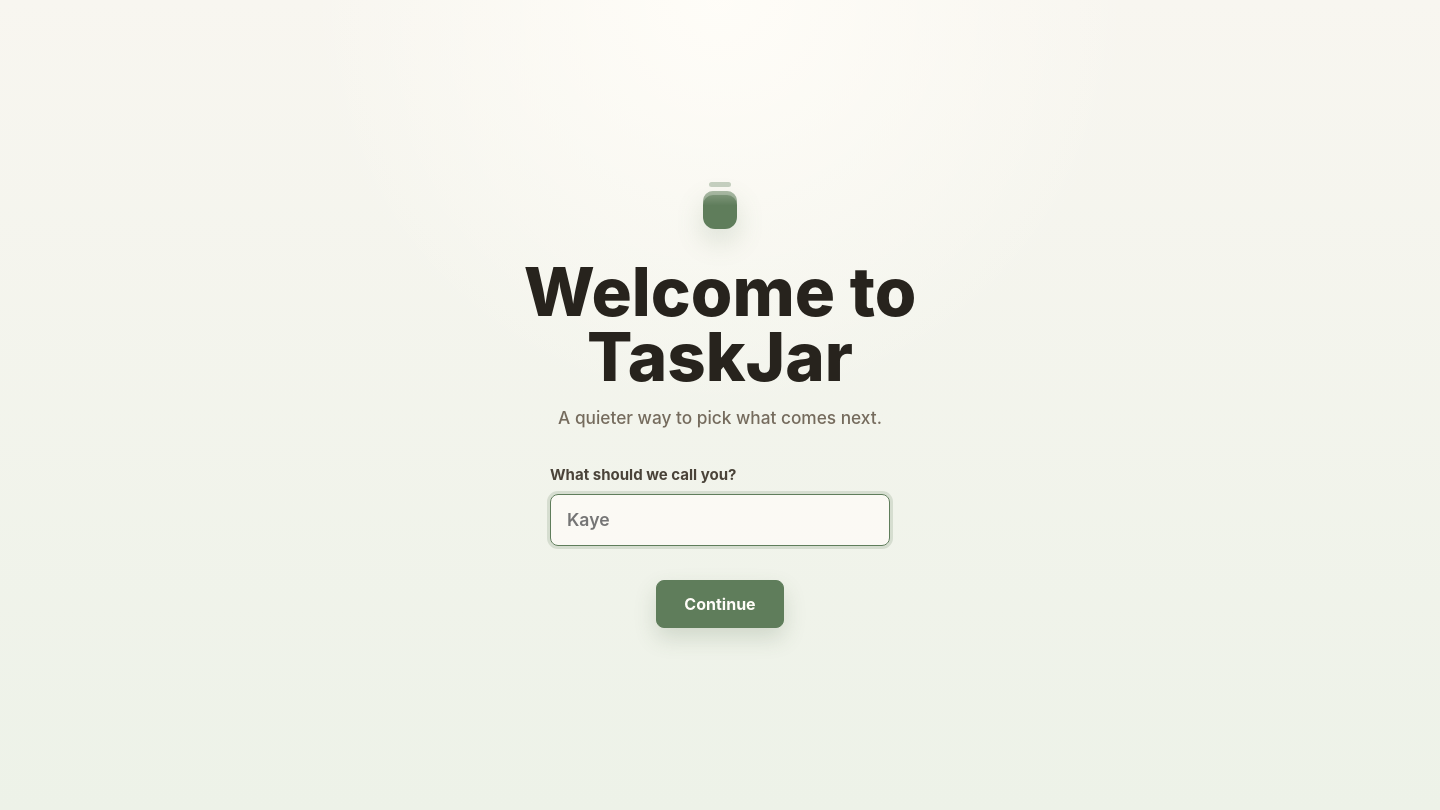
Scenario: lets first-run users start with a blank shelf
This screenshot has width=1440, height=810.
What coordinates should you click on to do the following:
click the button "Continue"
I would click on:
 (720, 604)
Its box is x1=656 y1=580 x2=784 y2=628.
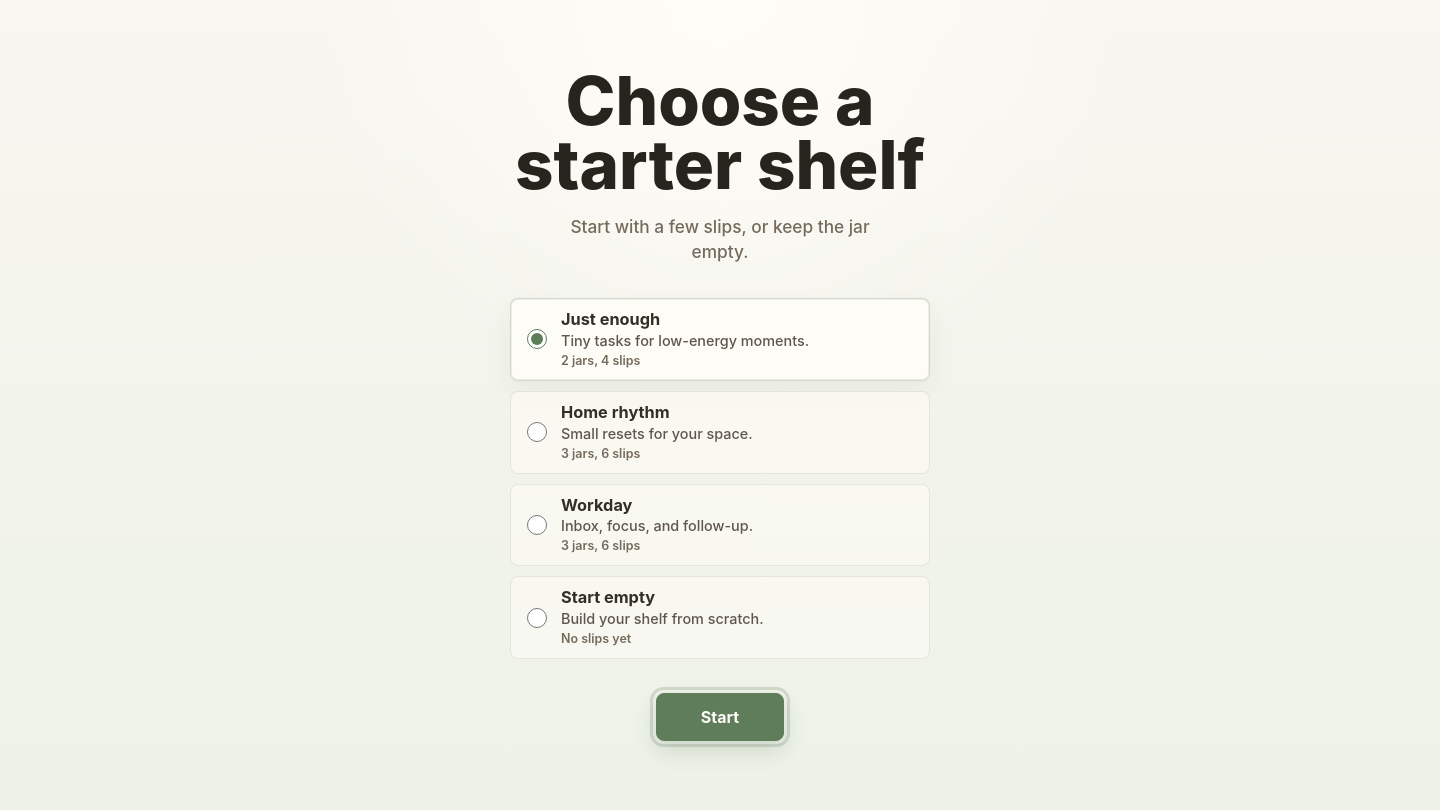
What coordinates should you click on to do the following:
click the radio button labelled "Start empty Build your shelf from scratch. No slips yet"
I would click on:
 (537, 618)
Its box is x1=527 y1=608 x2=547 y2=628.
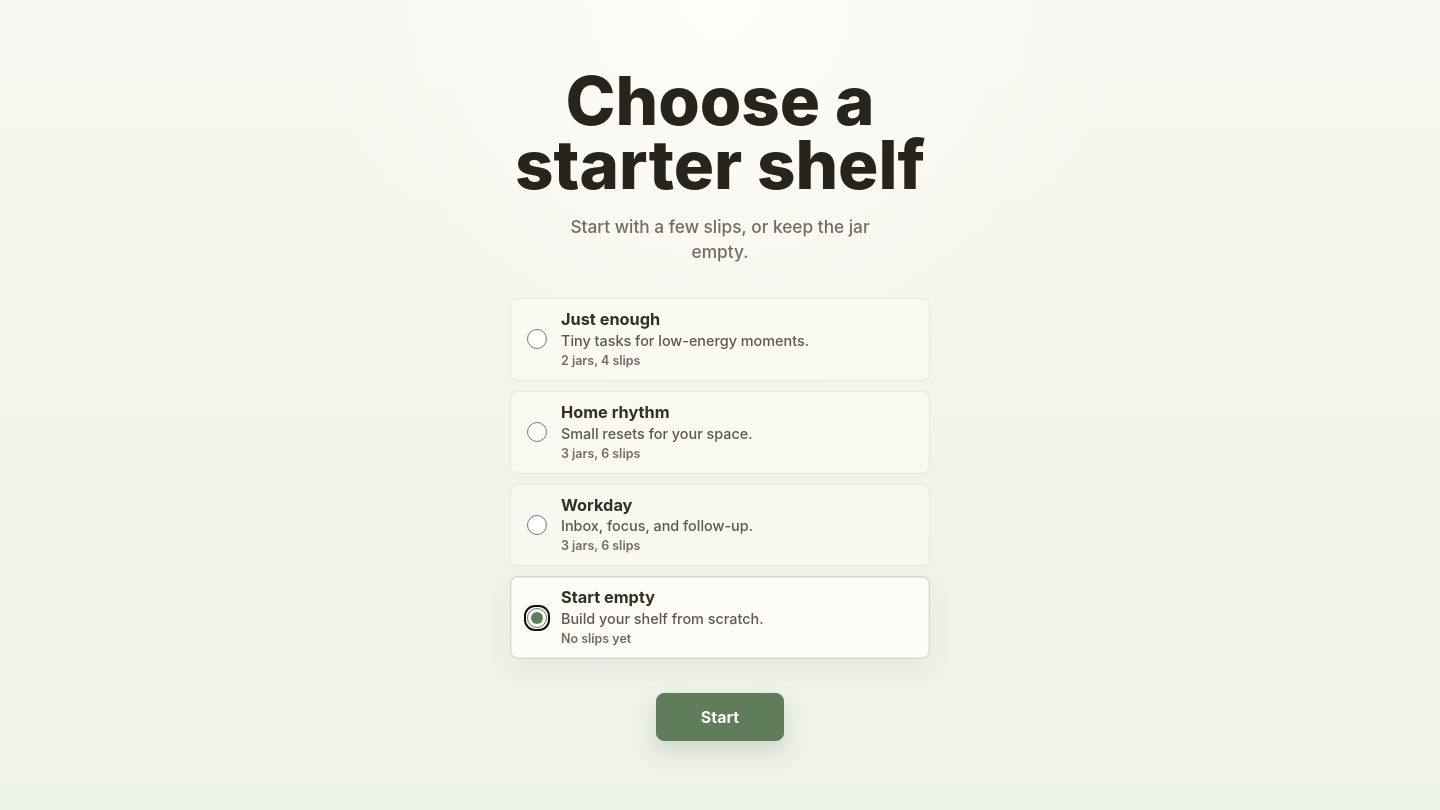
What coordinates should you click on to do the following:
click the button "Start"
I would click on:
 (720, 717)
Its box is x1=656 y1=693 x2=784 y2=741.
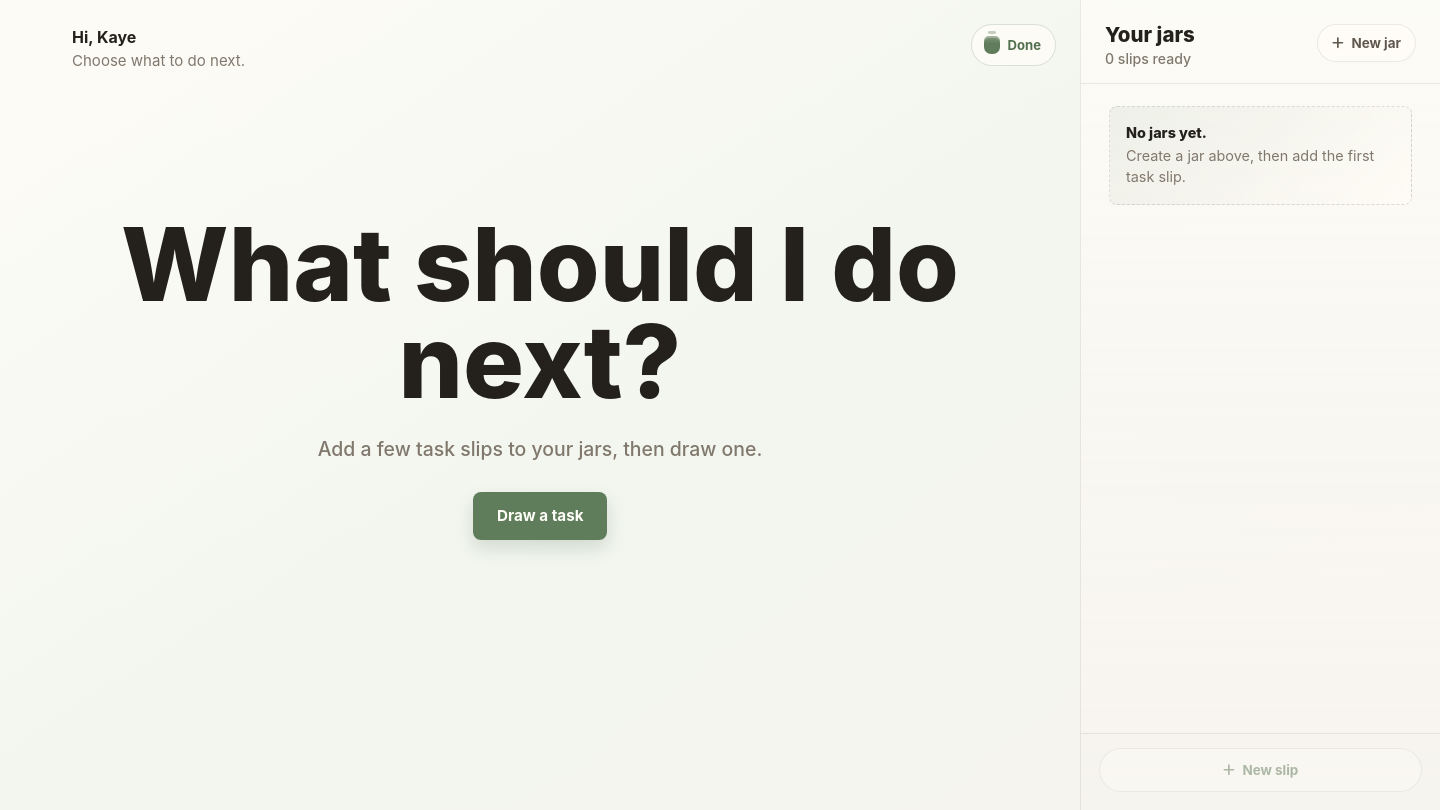
Expected: the text "Hi, Kaye" is shown, x1=72 y1=27 x2=136 y2=47
Expected: the text "No jars yet." is shown, x1=1126 y1=124 x2=1207 y2=140
